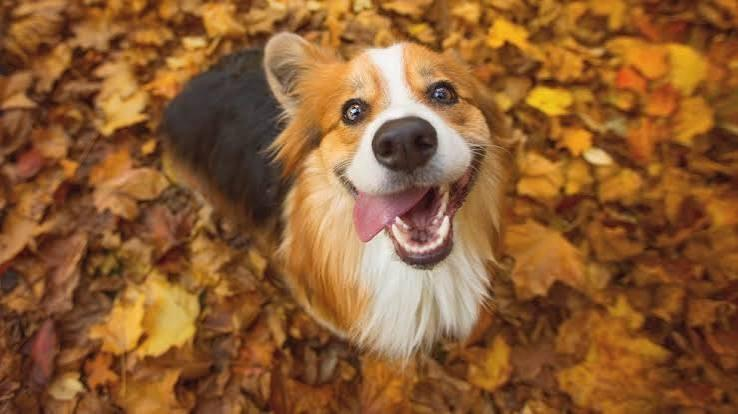adult_dog: (157, 32, 509, 364)
